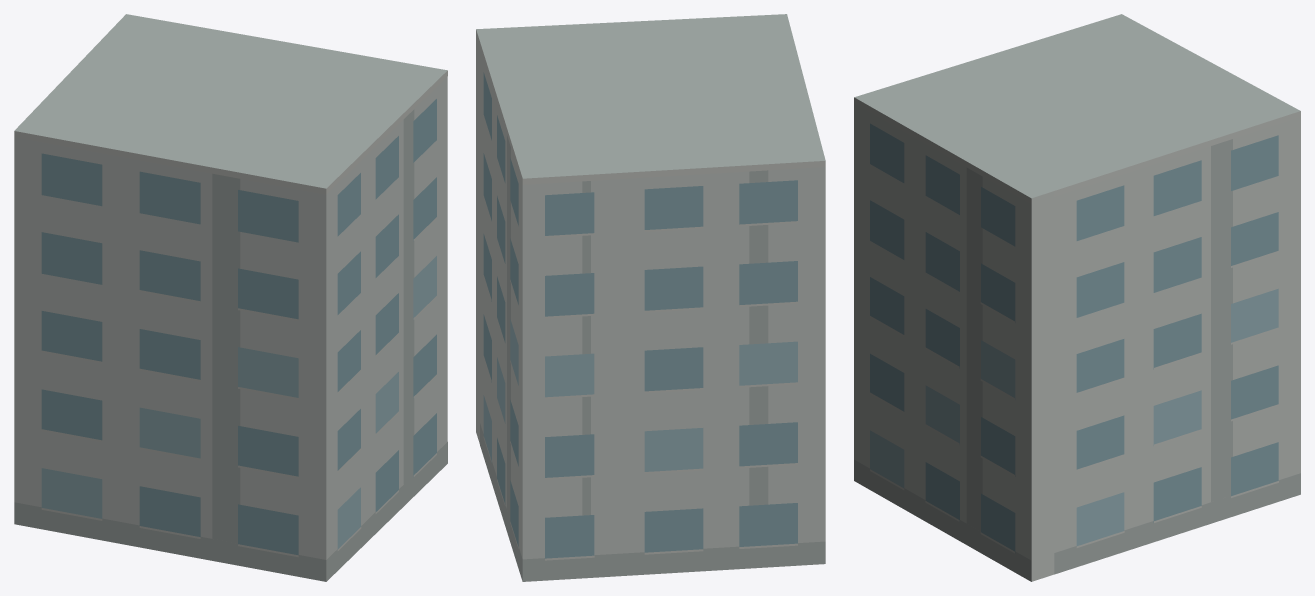
Rendered from survey-upis-32809148.glb.
3 views of the same model, side by side, from view 1: azimuth 30°, elevation 25°; view 2: azimuth 150°, elevation 25°; view 3: azimuth 270°, elevation 25° (orthographic). The views are drawn at different scales.
Visible parts, largest first — view 1: survey-upis-32809148.tmp; view 2: survey-upis-32809148.tmp; view 3: survey-upis-32809148.tmp.
Boxes of the visible parts, x1=… form: survey-upis-32809148.tmp: x1=14, y1=14, x2=447, y2=581; survey-upis-32809148.tmp: x1=476, y1=14, x2=825, y2=581; survey-upis-32809148.tmp: x1=854, y1=14, x2=1300, y2=581.
Size of the model in its own units: 16.2 by 15.71 by 16.59.
